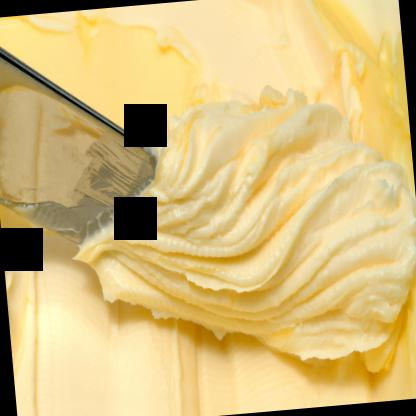butter: (75, 67, 415, 373)
